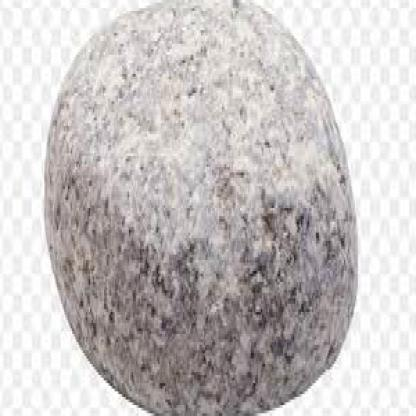Metamorphic_Marble: (41, 0, 374, 414)
